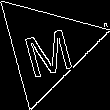M_N: (18, 16, 75, 76)
